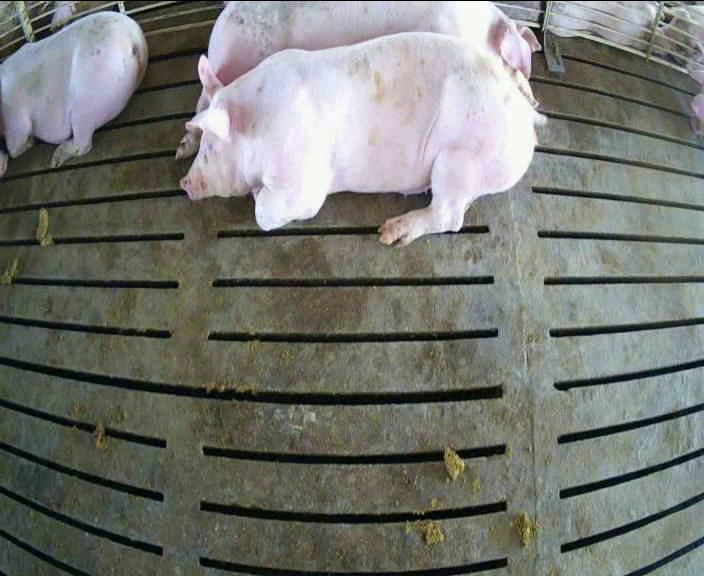pig: (181, 33, 541, 244), (0, 12, 146, 166)
